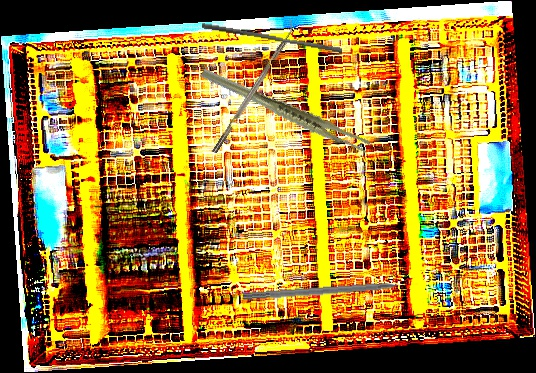Chopper: (206, 18, 300, 154)
Hook Surgical: (242, 279, 419, 303)
Pusher: (200, 23, 344, 54)
Tissue Forceps: (199, 39, 373, 181)
